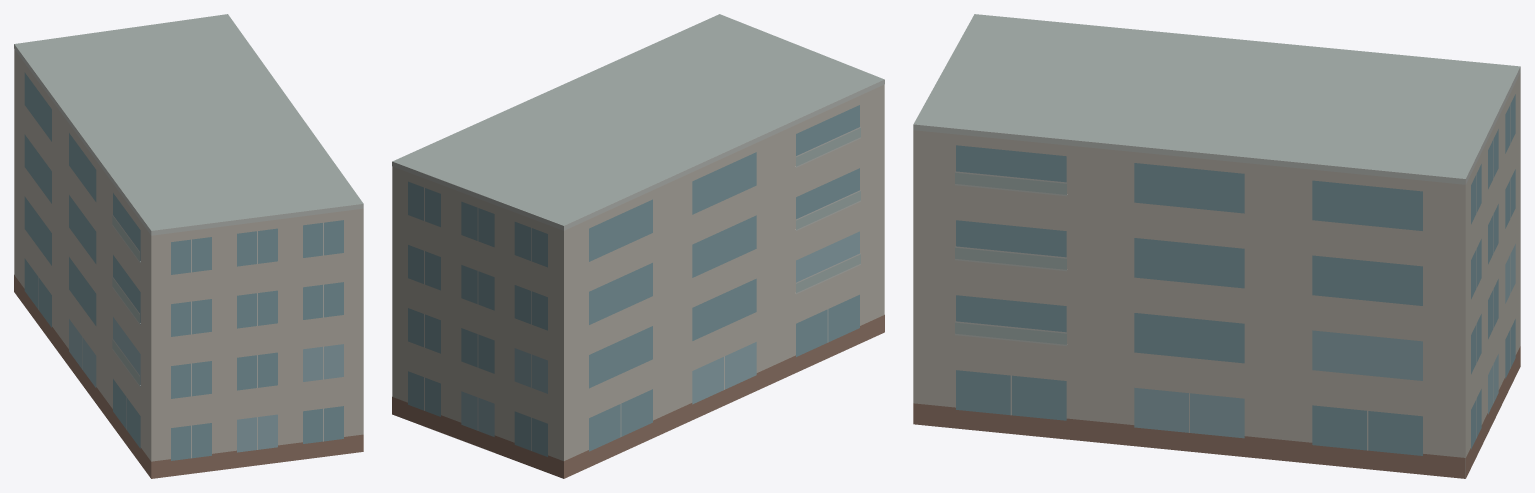
File: survey-upis-32664232.glb
The picture shows the model from 3 angles, left to right: view 1: azimuth 30°, elevation 25°; view 2: azimuth 150°, elevation 25°; view 3: azimuth 270°, elevation 25°; orthographic projection. The views are drawn at different scales.
Visible parts, largest first — view 1: survey-upis-32664232.tmp; view 2: survey-upis-32664232.tmp; view 3: survey-upis-32664232.tmp.
Part boxes in pixels (box(x1,y1,x2,y2)): survey-upis-32664232.tmp: box(14, 14, 363, 478); survey-upis-32664232.tmp: box(392, 14, 884, 478); survey-upis-32664232.tmp: box(913, 14, 1520, 478).
Bounding box in the file's own units: 15.01 × 12.7 × 23.33.
